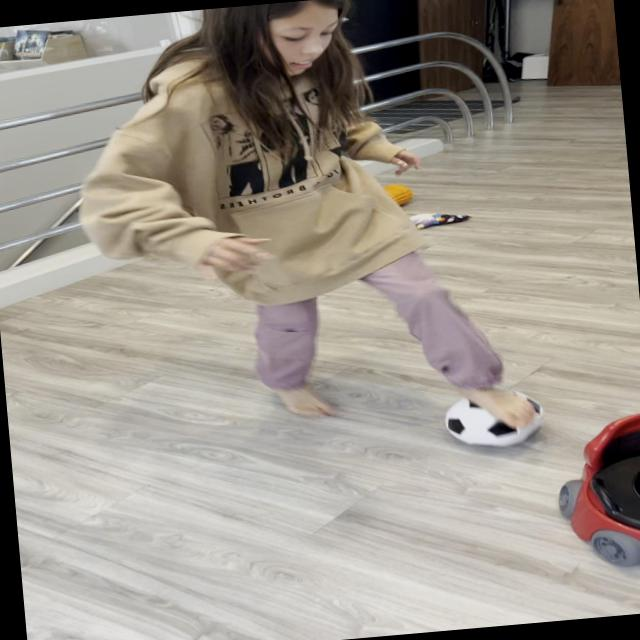Soccer Ball: (442, 386, 546, 452)
